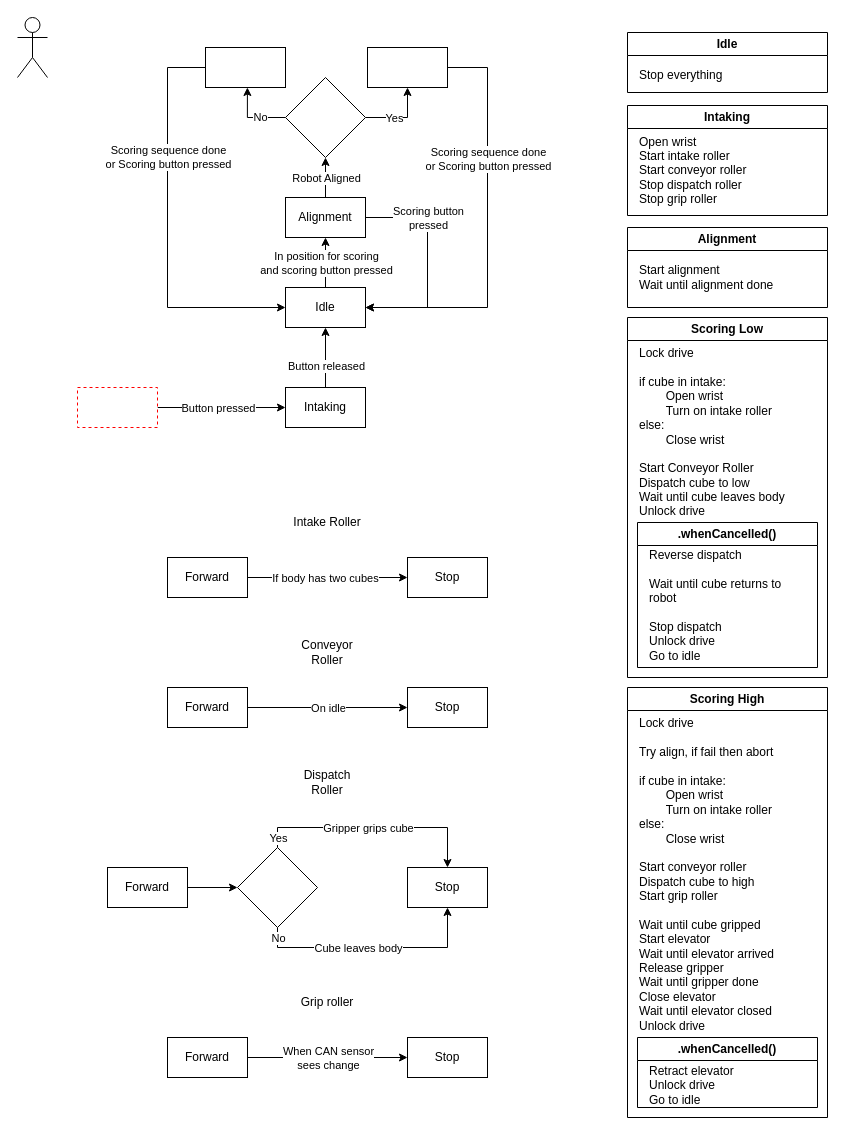
Image size: 845x1135. Some labels were removed from this diagram. Each missing label, with the centre of its shape:
"Adar" belongs at (32,47).
"Any" belongs at (117,407).
"Cube is green?" belongs at (325,117).
"If scoring high" belongs at (277,887).
"ScoringHigh" belongs at (245,67).
"ScoringLow" belongs at (407,67).
